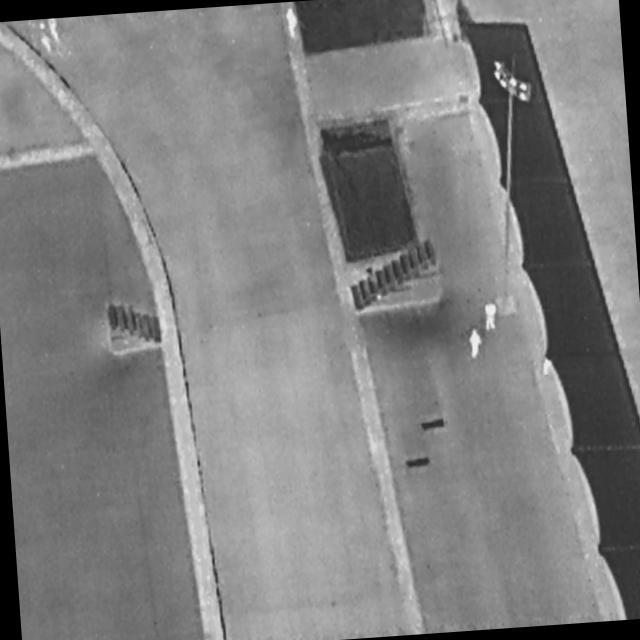person: (35, 19, 57, 56), (468, 326, 485, 361), (284, 7, 300, 42), (45, 19, 65, 45), (484, 300, 500, 332)
